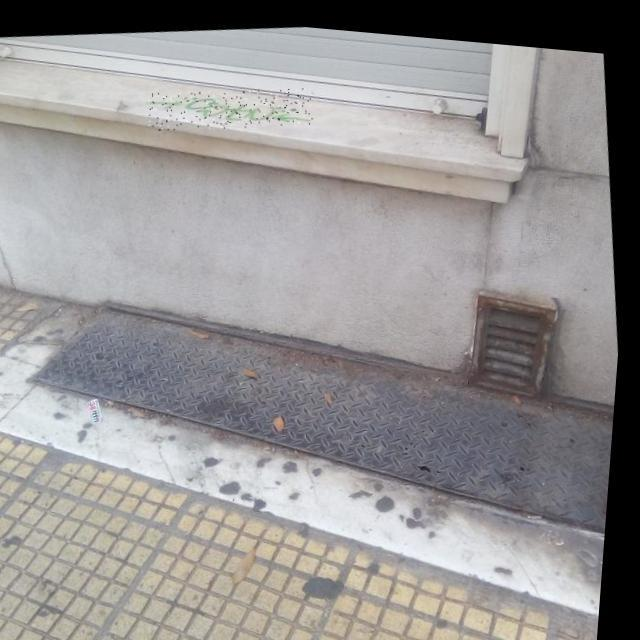-: (145, 70, 316, 139)
